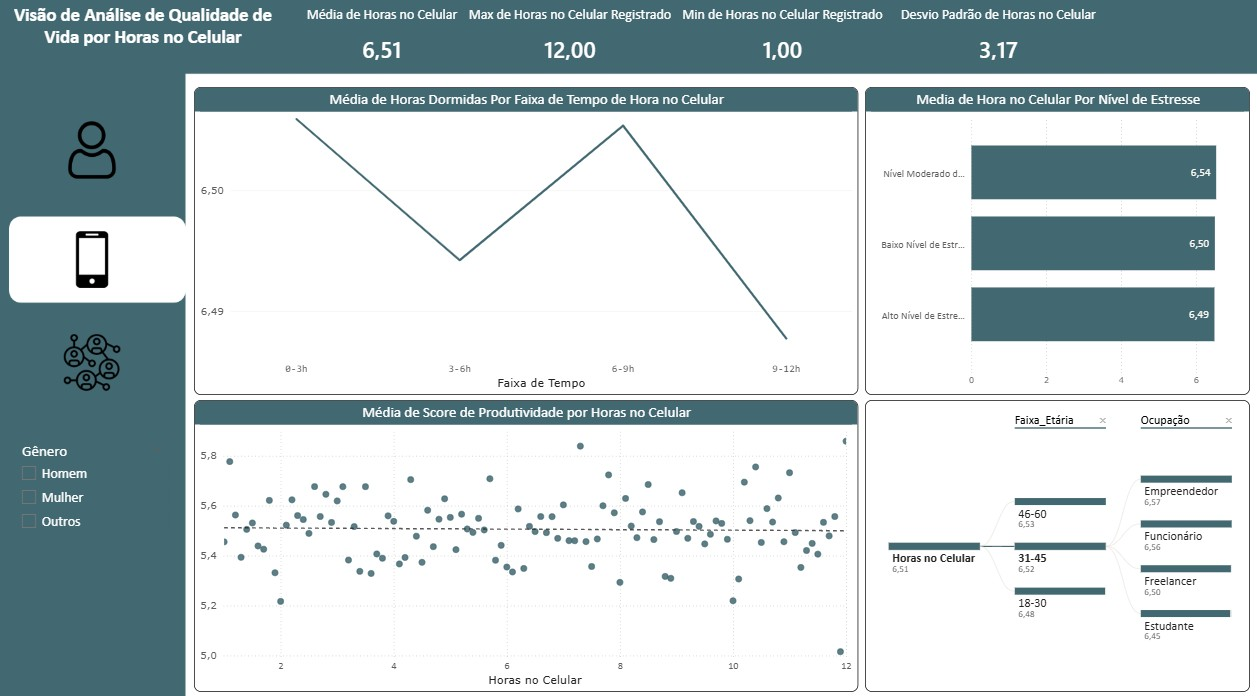

Layout of this report page (visuals, bound fields, positions):
{"tool":"powerbi","page":{"name":"Visão Celular","canvas":[1800,1000],"ordinal":1},"visuals":[{"type":"lineChart","title":"Média de Horas Dormidas Por Faixa de Tempo de Hora no Celular","fields":{"Y":["Avg(Smartphone_Usage_Productivity_Dataset_50000.Sleep_Hours)"],"Category":["Smartphone_Usage_Productivity_Dataset_50000.Faixa de Tempo"]},"box":[277.1,124.3,948.6,440],"z":1000},{"type":"clusteredBarChart","title":"Media de Hora no Celular Por Nível de Estresse","fields":{"Category":["Smartphone_Usage_Productivity_Dataset_50000.Nivel_Estresse"],"Y":["Avg(Smartphone_Usage_Productivity_Dataset_50000.Daily_Phone_Hours)"]},"box":[1235.7,124.3,550,440],"z":2000},{"type":"decompositionTreeVisual","fields":{"Analyze":["Avg(Smartphone_Usage_Productivity_Dataset_50000.Daily_Phone_Hours)"],"ExplainBy":["Smartphone_Usage_Productivity_Dataset_50000.Faixa_Etária","Smartphone_Usage_Productivity_Dataset_50000.Occupation"]},"box":[1235.7,571.4,550,417.1],"z":3000},{"type":"scatterChart","fields":{"Y":["Avg(Smartphone_Usage_Productivity_Dataset_50000.Work_Productivity_Score)"],"X":["Smartphone_Usage_Productivity_Dataset_50000.Daily_Phone_Hours"]},"box":[277.1,571.4,948.6,417.1],"z":4000},{"type":"cardVisual","title":"Média de Horas no Celular","fields":{"Data":["Avg(Smartphone_Usage_Productivity_Dataset_50000.Daily_Phone_Hours)"]},"box":[427.1,8.6,237.1,94.3],"z":5000},{"type":"cardVisual","title":"Max de Horas no Celular Registrado","fields":{"Data":["Max(Smartphone_Usage_Productivity_Dataset_50000.Daily_Phone_Hours)"]},"box":[664.3,8.6,300,94.3],"z":6000},{"type":"cardVisual","title":"Min de Horas no Celular Registrado","fields":{"Data":["Min(Smartphone_Usage_Productivity_Dataset_50000.Daily_Phone_Hours)"]},"box":[964.3,8.6,307.1,94.3],"z":7000},{"type":"cardVisual","title":"Desvio Padrão de Horas no Celular","fields":{"Data":["Sum(Smartphone_Usage_Productivity_Dataset_50000.Daily_Phone_Hours)"]},"box":[1271.4,8.6,310,94.3],"z":8000},{"type":"textbox","box":[0,0,408.6,102.9],"z":9000},{"type":"actionButton","box":[81.7,165,96.7,103.3],"z":10000},{"type":"actionButton","box":[66.7,460,123.3,125],"z":11000},{"type":"slicer","fields":{"Values":["Smartphone_Usage_Productivity_Dataset_50000.Gender"]},"box":[18.6,625.7,227.1,374.3],"z":12000}]}

Visuals, with their boxes in screenshot pixels (x1, y1, x2, y2), scaled from the page's 1800x1000 canvas onto the 1257x696 screenshot:
"Média de Horas Dormidas Por Faixa de Tempo de Hora no Celular" lineChart: 194 87 856 393
"Media de Hora no Celular Por Nível de Estresse" clusteredBarChart: 863 87 1247 393
decompositionTreeVisual - Avg(Smartphone_Usage_Productivity_Dataset_50000.Daily_Phone_Hours) x Smartphone_Usage_Productivity_Dataset_50000.Faixa_Etária: 863 398 1247 688
scatterChart - Avg(Smartphone_Usage_Productivity_Dataset_50000.Work_Productivity_Score) x Smartphone_Usage_Productivity_Dataset_50000.Daily_Phone_Hours: 194 398 856 688
"Média de Horas no Celular" cardVisual: 298 6 464 72
"Max de Horas no Celular Registrado" cardVisual: 464 6 673 72
"Min de Horas no Celular Registrado" cardVisual: 673 6 888 72
"Desvio Padrão de Horas no Celular" cardVisual: 888 6 1104 72
textbox: 0 0 285 72
actionButton: 57 115 125 187
actionButton: 47 320 133 407
slicer - Smartphone_Usage_Productivity_Dataset_50000.Gender: 13 435 172 695
